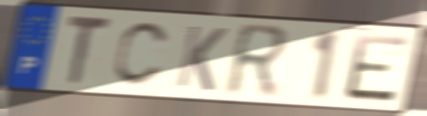1: (309, 28, 342, 102)
C: (110, 20, 173, 90)
E: (342, 31, 413, 105)
K: (173, 23, 230, 94)
R: (222, 21, 293, 101)
T: (64, 13, 114, 89)
